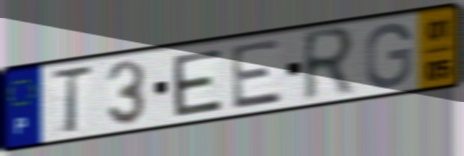3: (104, 57, 148, 130)
E: (229, 36, 286, 113), (169, 46, 225, 120)
G: (363, 21, 414, 91)
R: (300, 23, 360, 107)
T: (47, 63, 96, 138)
